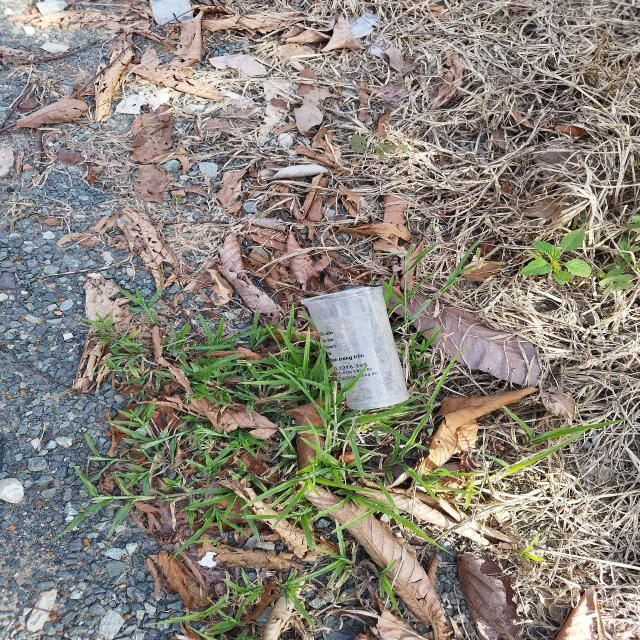plastic glass: (297, 286, 411, 411)
